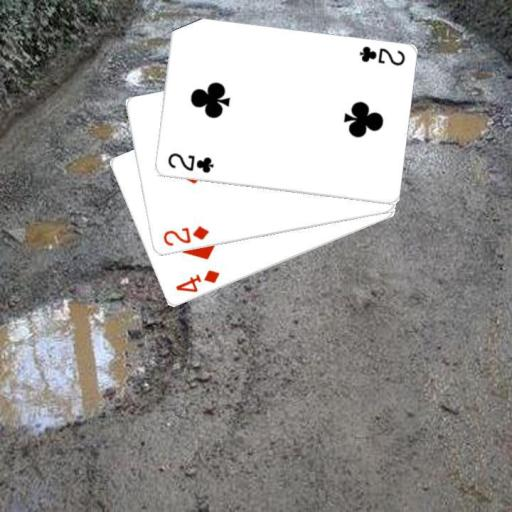2C: (164, 150, 215, 175), (356, 44, 406, 68)
2D: (159, 223, 210, 248)
4D: (172, 267, 221, 294)
